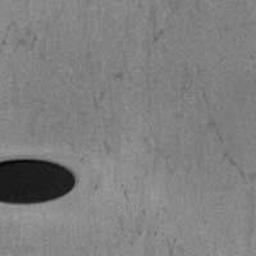Punching: (0, 159, 74, 206)
